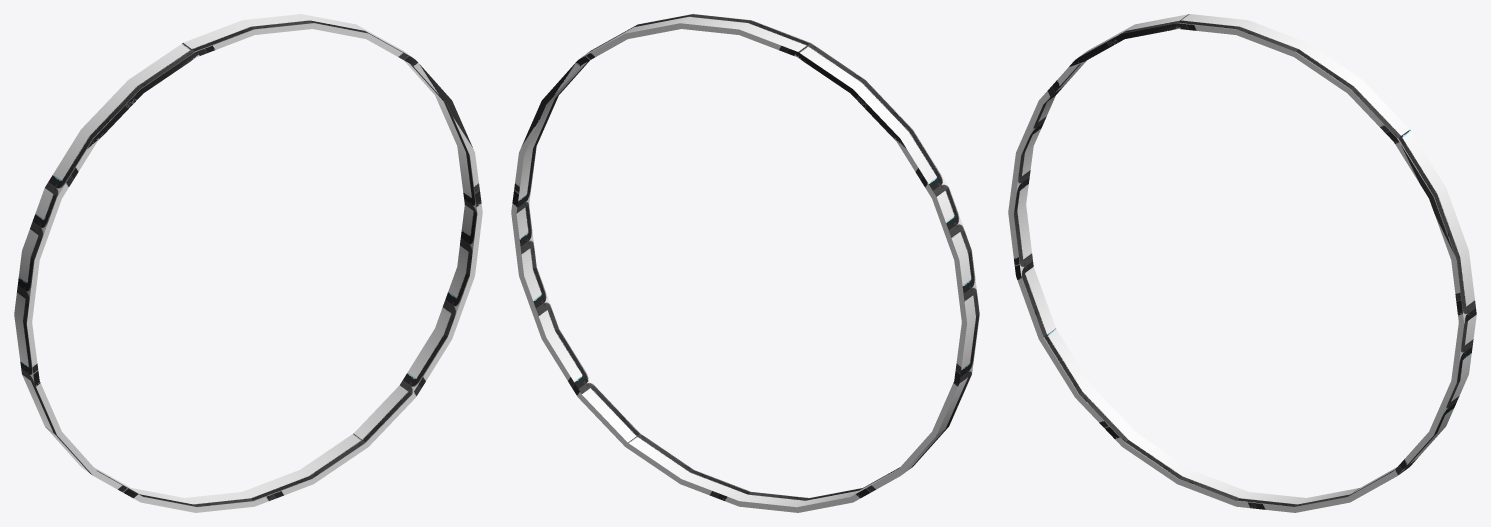
Rendered from original-2.obj.
3 renders of one model, left to right at view 1: azimuth 30°, elevation 25°; view 2: azimuth 150°, elevation 25°; view 3: azimuth 330°, elevation 25°, orthographic.
Visible parts, largest first — view 1: mesh1/mesh1-geometry#mesh1-geometry; view 2: mesh1/mesh1-geometry#mesh1-geometry; view 3: mesh1/mesh1-geometry#mesh1-geometry.
Boxes of the visible parts, left/top/right/bottom form: mesh1/mesh1-geometry#mesh1-geometry: left=14, top=14, right=482, bottom=512; mesh1/mesh1-geometry#mesh1-geometry: left=511, top=14, right=979, bottom=512; mesh1/mesh1-geometry#mesh1-geometry: left=1008, top=14, right=1476, bottom=512.
Size of the model in its own units: 1.93 by 1.93 by 0.0924.
